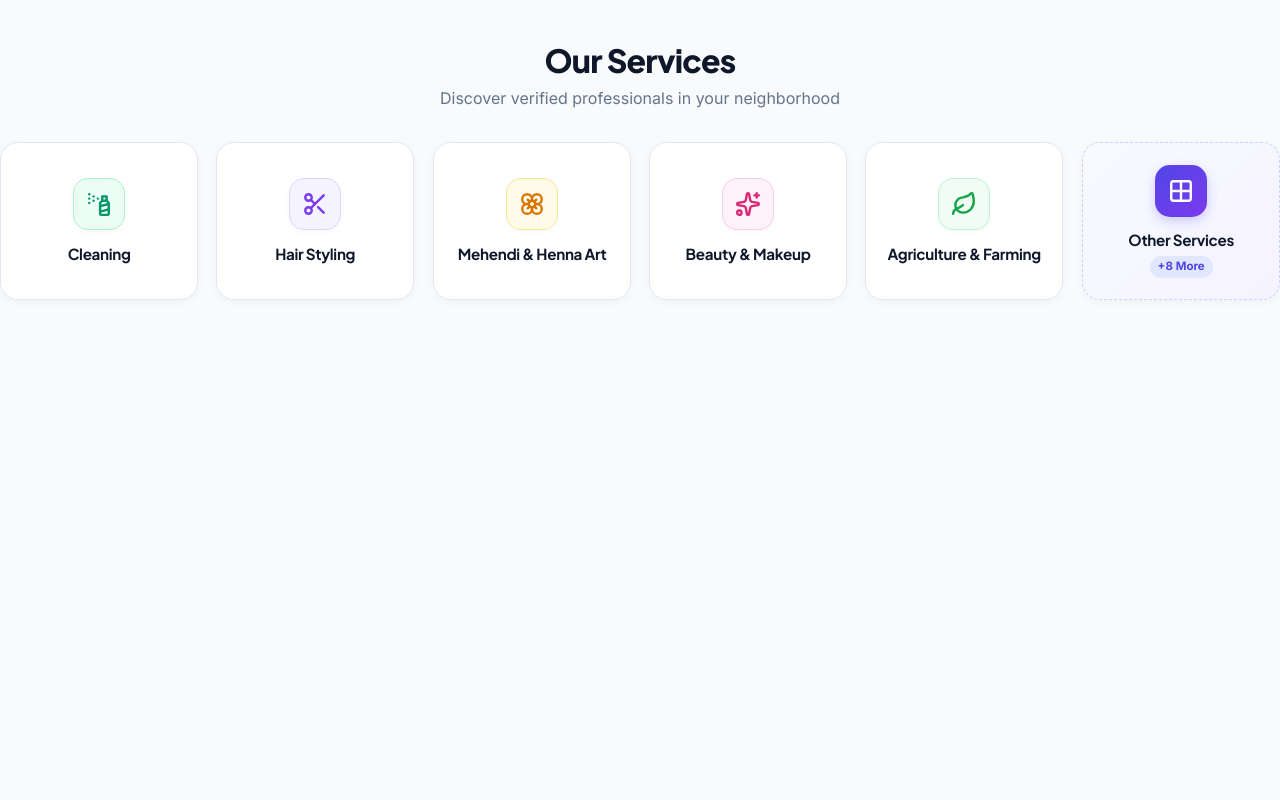
it: VEGA ServicesSection Component › collapses back to the 6 initial cards when Show Less button is clicked
This screenshot has width=1280, height=800.
What coordinates should you click on to do the following:
click the heading "Other Services"
I would click on:
 (1181, 240)
Its box is [1128,230,1234,250].
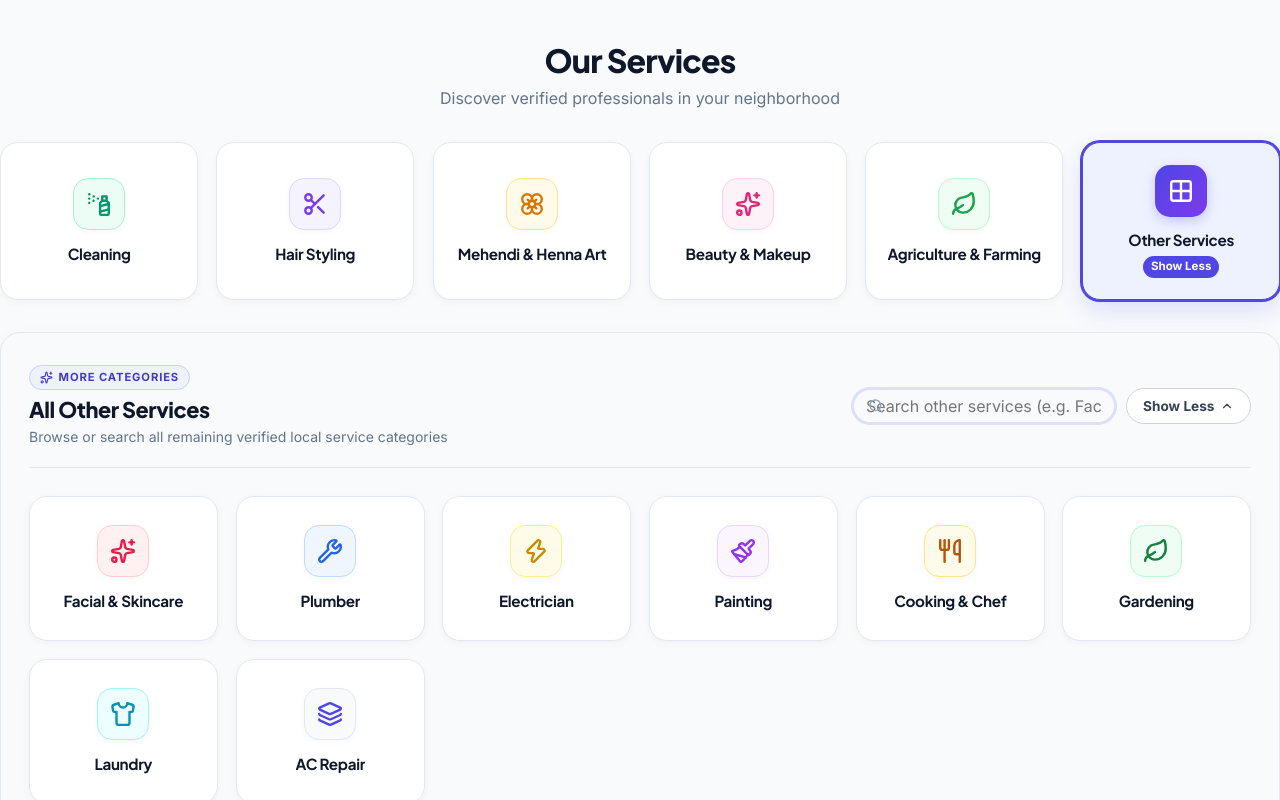
Expected: the heading "Plumber" is shown, [300,591,360,612]
Click collapse button
What coordinates should you click on to do the following:
click the button titled "Collapse more services"
I would click on:
 (1189, 406)
Its box is [1126,388,1251,424].
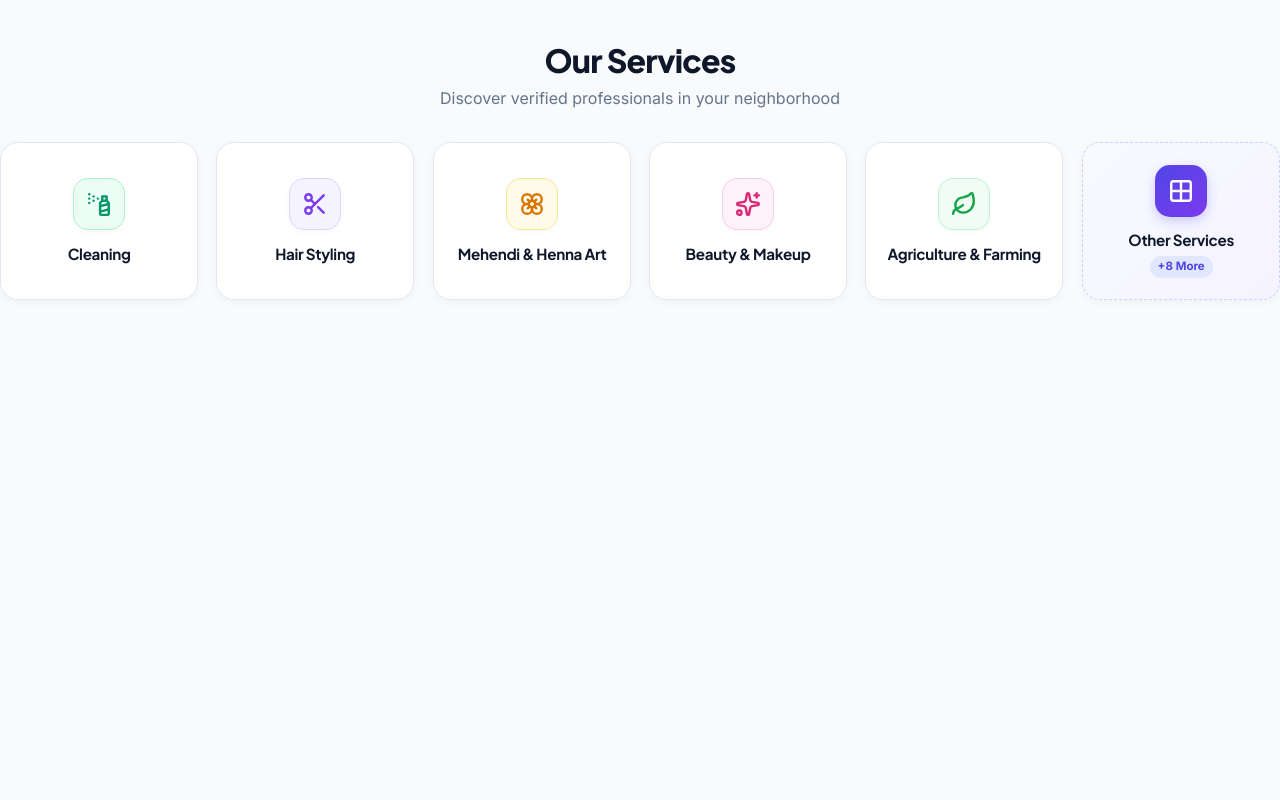
Expected: the heading "Other Services" is shown, [1128,230,1234,250]
Expected: the button "Plumber" is gone
